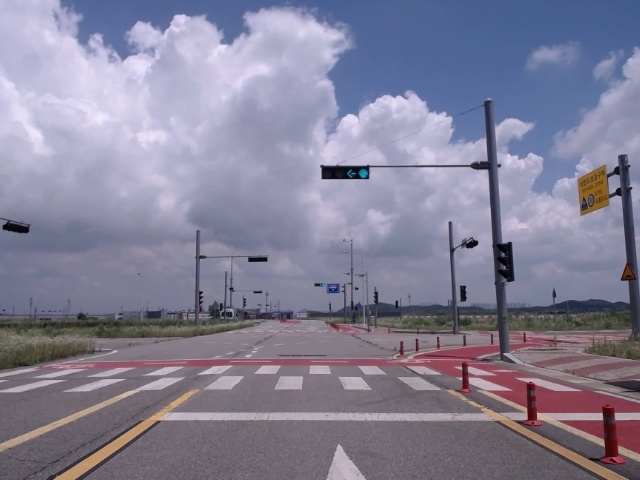all_green_4: (321, 165, 370, 180)
